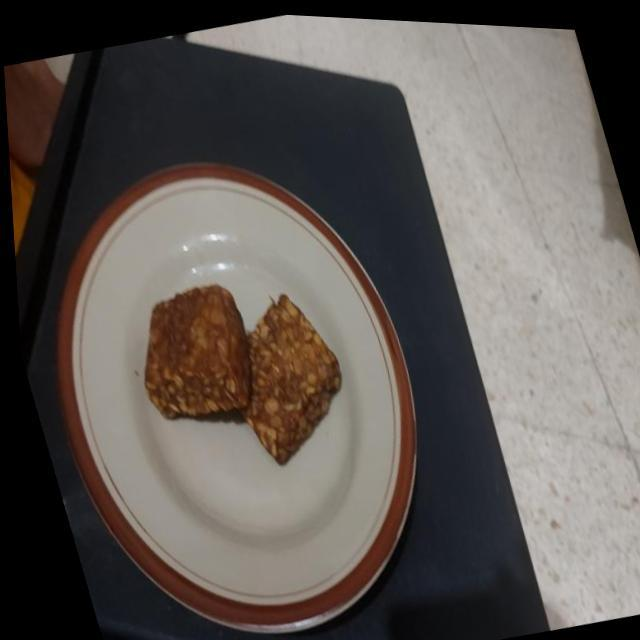tempe_goreng: (240, 294, 341, 463), (144, 285, 252, 418)
